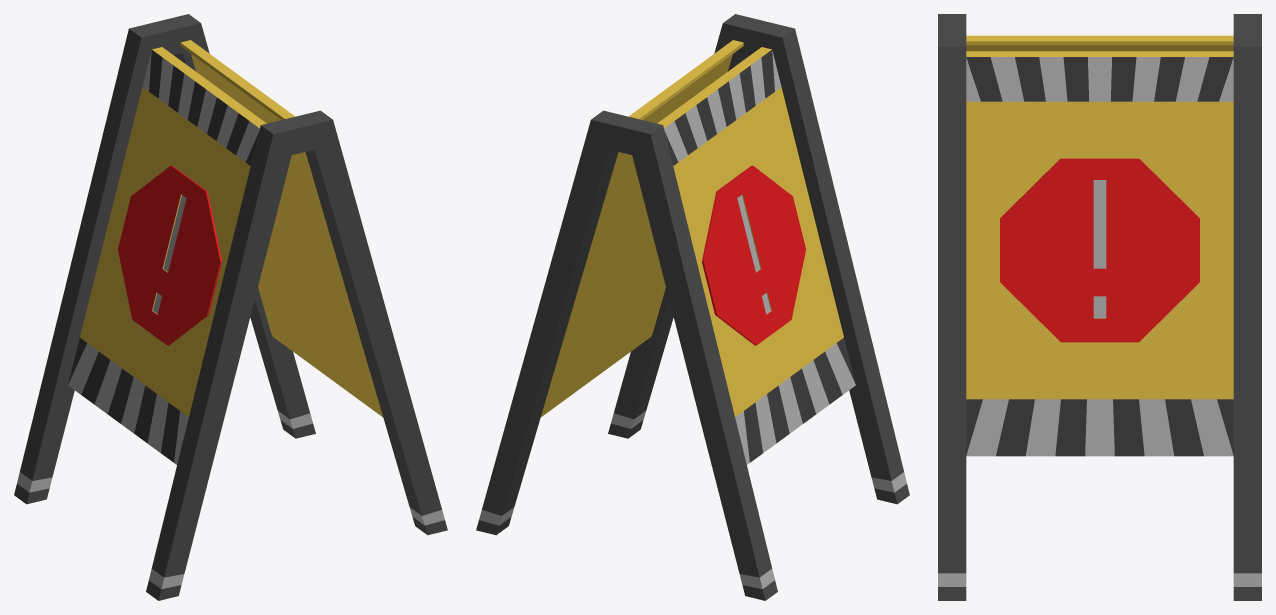
File: Barricade 1.fbx
The picture shows the model from 3 angles, left to right: view 1: azimuth 30°, elevation 25°; view 2: azimuth 150°, elevation 25°; view 3: azimuth 270°, elevation 25°; orthographic projection. The views are drawn at different scales.
Parts seen in each view (by area): view 1: Barricade 1; view 2: Barricade 1; view 3: Barricade 1.
Boxes of the visible parts, left/top/right/bottom form: Barricade 1: left=14, top=14, right=447, bottom=600; Barricade 1: left=476, top=14, right=909, bottom=600; Barricade 1: left=938, top=14, right=1261, bottom=600.
Bounding box in the file's own units: 0.6938 × 0.5998 × 1.
